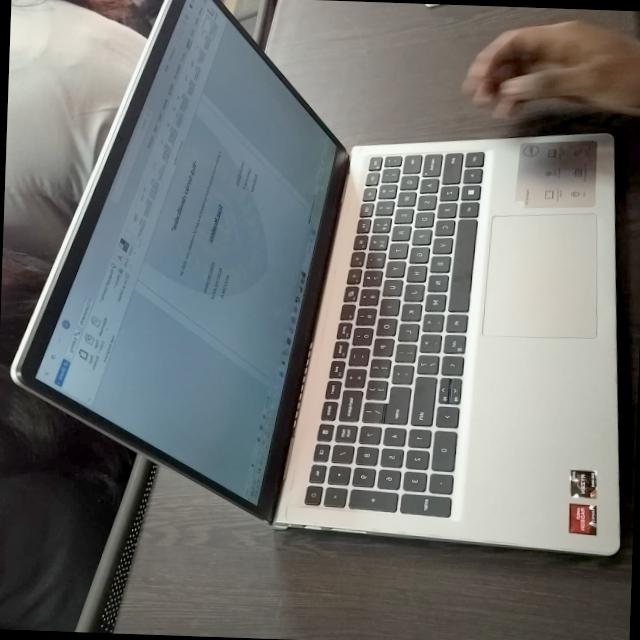laptop: (17, 0, 638, 561)
